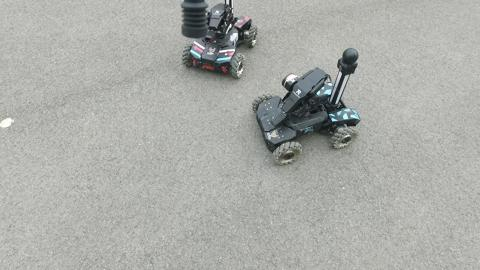chariot: (245, 46, 378, 163), (182, 1, 260, 81)
